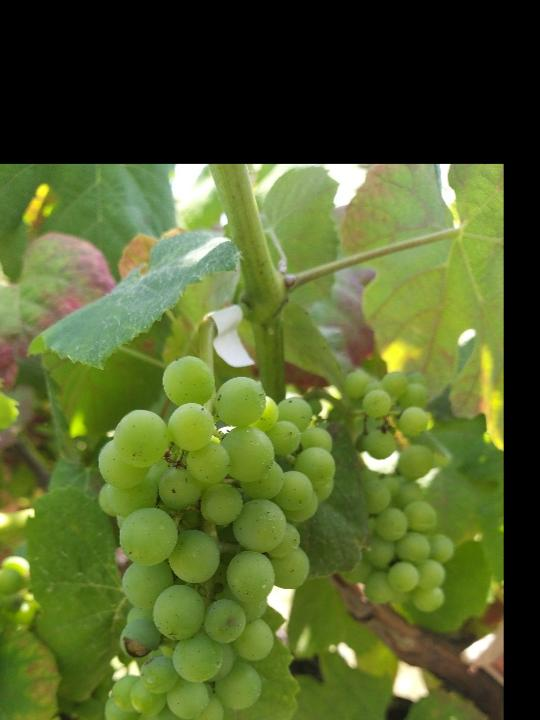grape: (96, 351, 341, 720)
